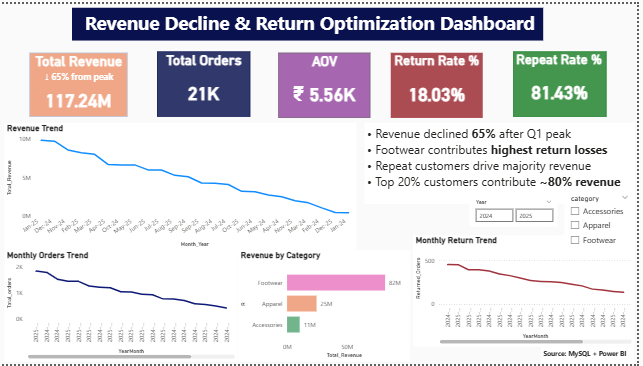

Layout of this report page (visuals, bound fields, positions):
{"tool":"powerbi","page":{"name":"Page 1","canvas":[1280,720],"ordinal":0},"visuals":[{"type":"textbox","box":[151.1,8.5,942.6,66],"z":0},{"type":"card","title":"Total Revenue","fields":{"Values":["Measures Table.Total_Revenue"]},"box":[66,98,196,128],"z":1000},{"type":"card","title":"Total Orders","fields":{"Values":["Measures Table.Total_orders"]},"box":[320,96,186,130],"z":2000},{"type":"card","title":"AOV","fields":{"Values":["Measures Table.AOV"]},"box":[562,98,184,130],"z":3000},{"type":"card","title":"Return Rate %","fields":{"Values":["Measures Table.return_rate %"]},"box":[788,98,184,130],"z":4000},{"type":"card","title":"Repeat Rate %","fields":{"Values":["Measures Table.Repeat_rate %"]},"box":[1032,96,186,130],"z":5000},{"type":"lineChart","title":"Revenue Trend","fields":{"Y":["Measures Table.Total_Revenue"],"Category":["Date_Table.Month_Year"]},"box":[16,238,704,254],"z":6000},{"type":"textbox","box":[734,238,540,162],"z":7000},{"type":"lineChart","title":"Monthly Orders Trend","fields":{"Category":["Date_Table.YearMonth"],"Y":["Measures Table.Total_orders"]},"box":[16,492,466,222],"z":8000},{"type":"clusteredBarChart","title":"Revenue by Category","fields":{"Category":["products.category"],"Y":["Measures Table.Total_Revenue"]},"box":[482,492,344,222],"z":9000},{"type":"lineChart","title":"Monthly Return Trend","fields":{"Category":["Date_Table.YearMonth"],"Y":["Measures Table.Returned_Orders"]},"box":[832,462,442,222],"z":10000},{"type":"slicer","fields":{"Values":["Date_Table.Year"]},"box":[944,386,176,60],"z":11000},{"type":"slicer","fields":{"Values":["products.category"]},"box":[1134,374,140,118],"z":12000},{"type":"textbox","box":[1088,684,186,34],"z":13000}]}

Visuals, with their boxes in screenshot pixels (x1, y1, x2, y2), scaled from the page's 1280x720 canvas onto the 643x366 screenshot:
textbox: x1=76 y1=4 x2=549 y2=38
"Total Revenue" card: x1=33 y1=50 x2=132 y2=115
"Total Orders" card: x1=161 y1=49 x2=254 y2=115
"AOV" card: x1=282 y1=50 x2=375 y2=116
"Return Rate %" card: x1=396 y1=50 x2=488 y2=116
"Repeat Rate %" card: x1=518 y1=49 x2=612 y2=115
"Revenue Trend" lineChart: x1=8 y1=121 x2=362 y2=250
textbox: x1=369 y1=121 x2=640 y2=203
"Monthly Orders Trend" lineChart: x1=8 y1=250 x2=242 y2=363
"Revenue by Category" clusteredBarChart: x1=242 y1=250 x2=415 y2=363
"Monthly Return Trend" lineChart: x1=418 y1=235 x2=640 y2=348
slicer - Date_Table.Year: x1=474 y1=196 x2=563 y2=227
slicer - products.category: x1=570 y1=190 x2=640 y2=250
textbox: x1=547 y1=348 x2=640 y2=365
